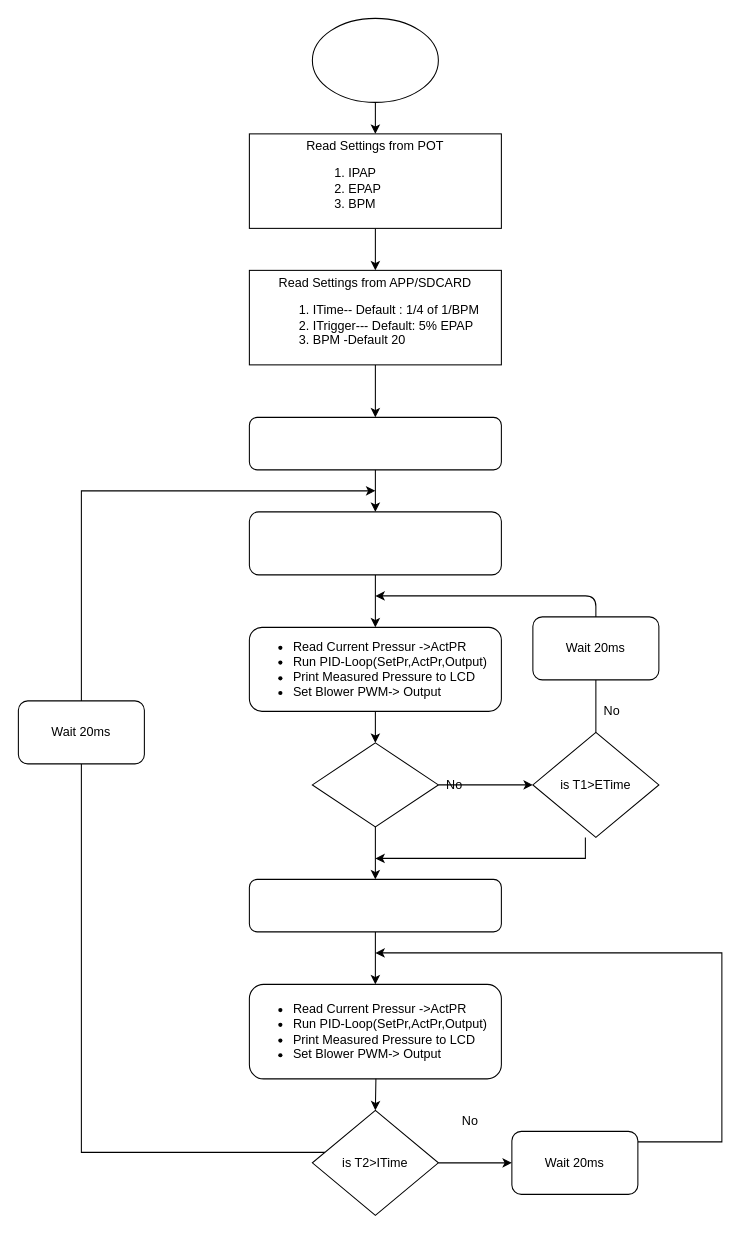
This 749x1234 diagram has some shape labels left out. Here are the shapes that lost their labels. From the top down, the centre of each, then its label:
At point 374,59: "START-BIPAP".
At point 374,443: "ETime=1/BPM - ITime TrigPr=EPAP*ITrigger/100".
At point 374,543: "SetPr=EPAP T1= 0".
At point 374,784: "is ActPr<TrigPr".
At point 374,905: "SetPr=IPAP T2= 0".
